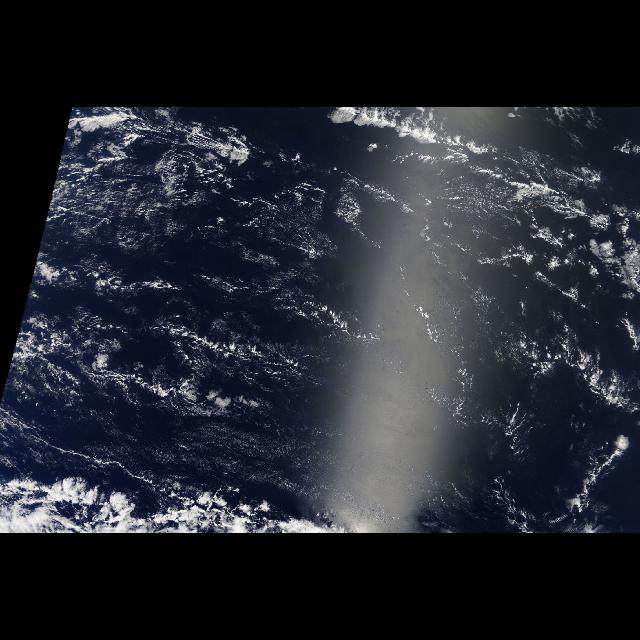Sugar: (8, 404, 430, 486), (226, 173, 382, 307), (442, 178, 494, 426), (59, 180, 193, 248)
